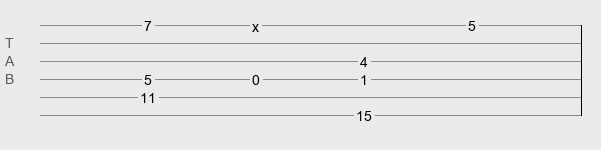0: (252, 72, 260, 82)
1: (360, 72, 368, 82)
11: (140, 90, 156, 100)
15: (356, 108, 372, 118)
4: (360, 54, 368, 64)
5: (144, 72, 152, 82), (468, 18, 476, 28)
7: (144, 18, 152, 28)
x: (252, 19, 259, 27)
